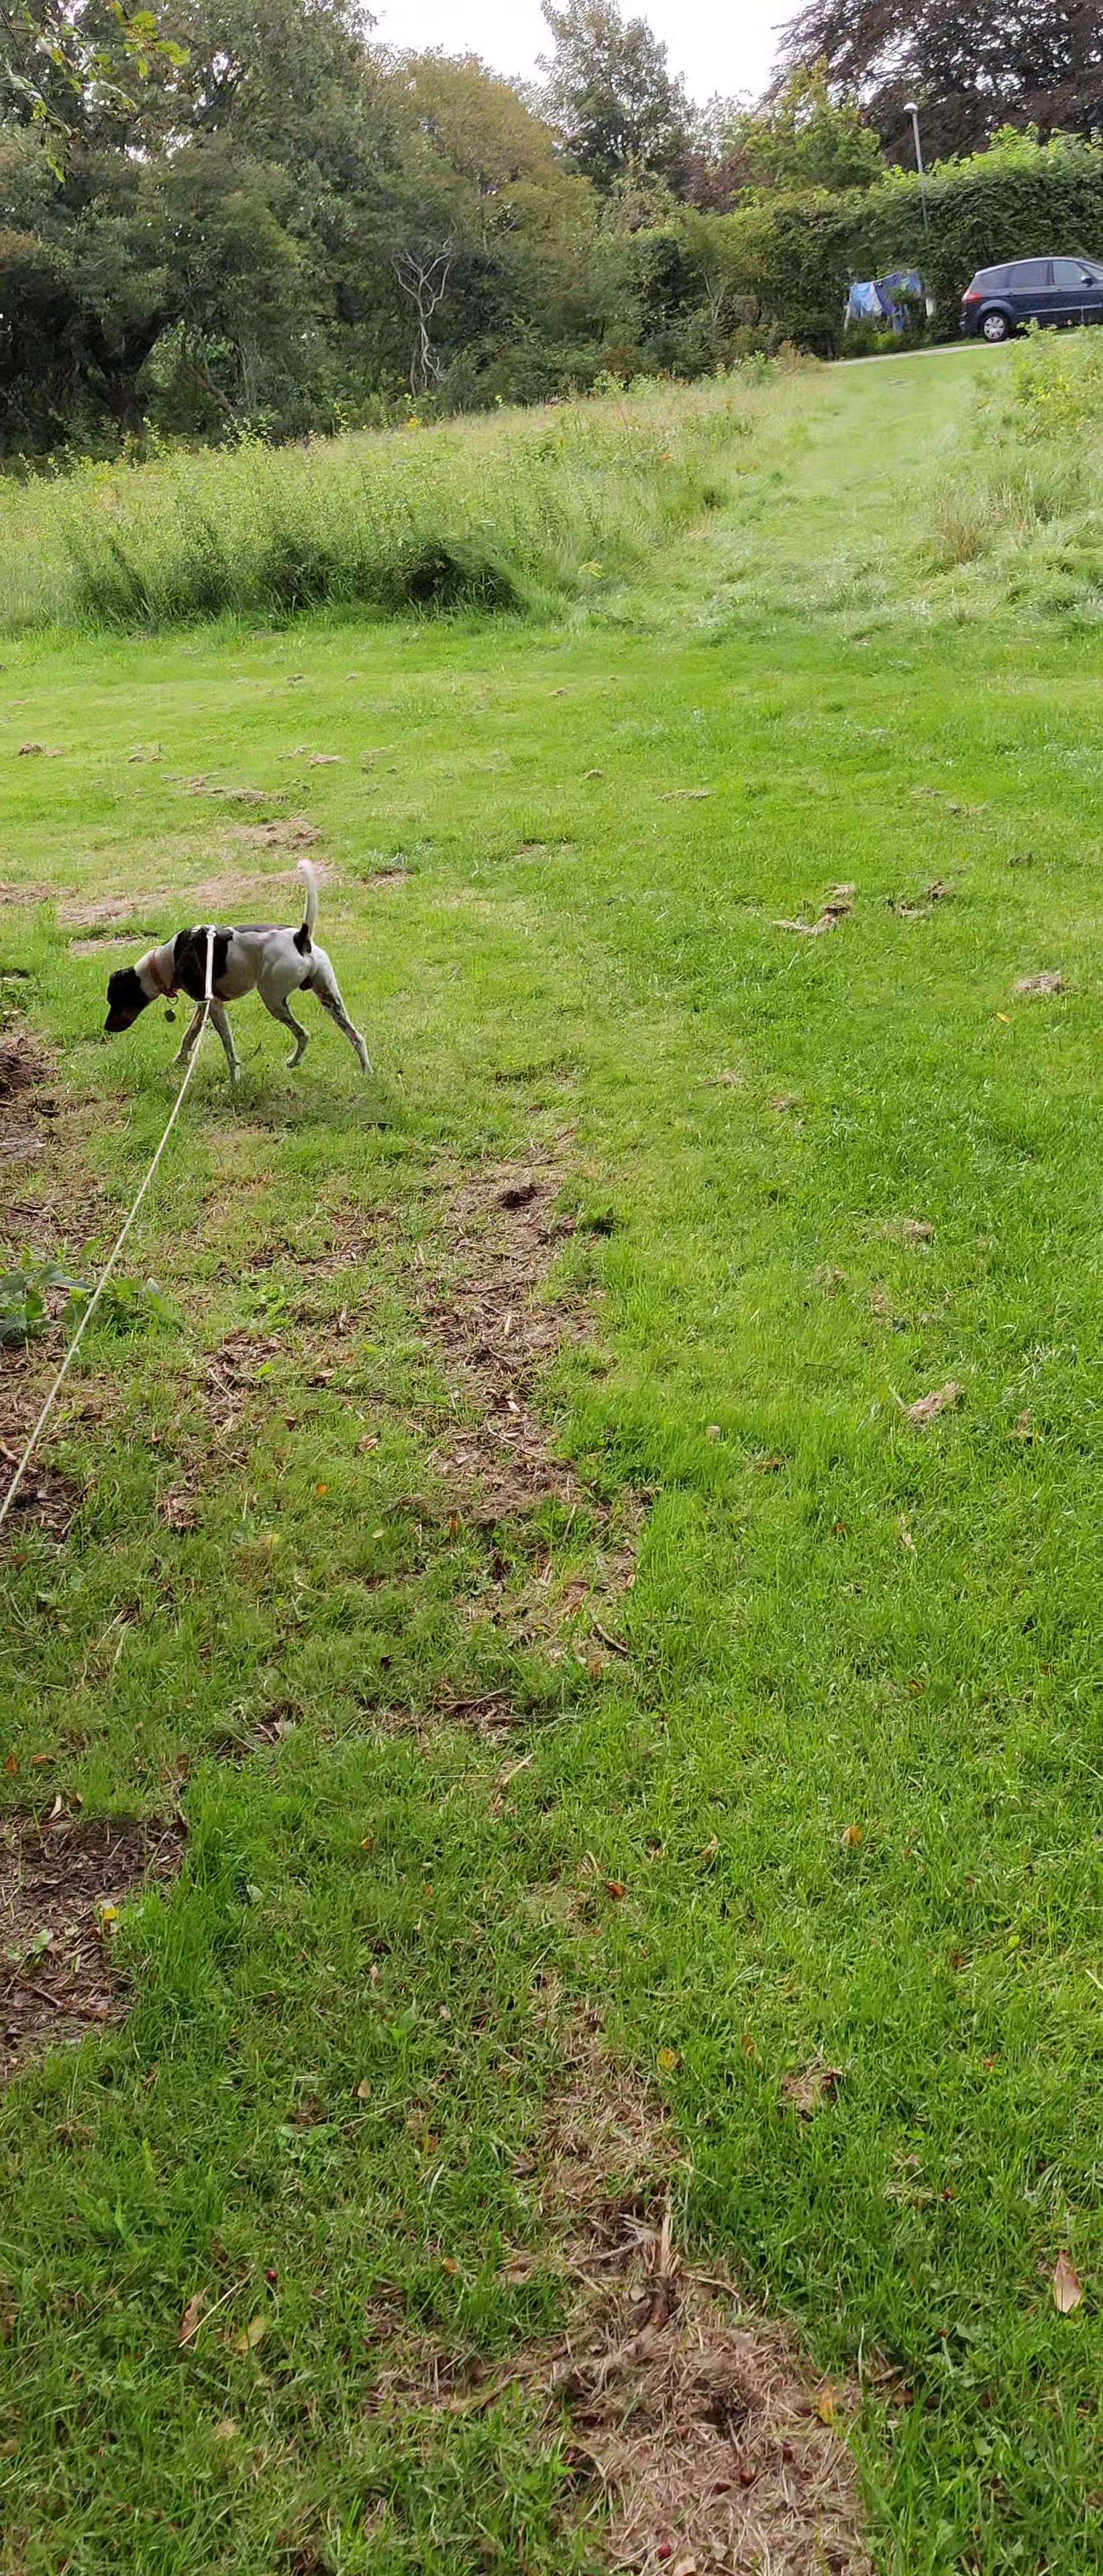Dog: (97, 849, 381, 1084)
